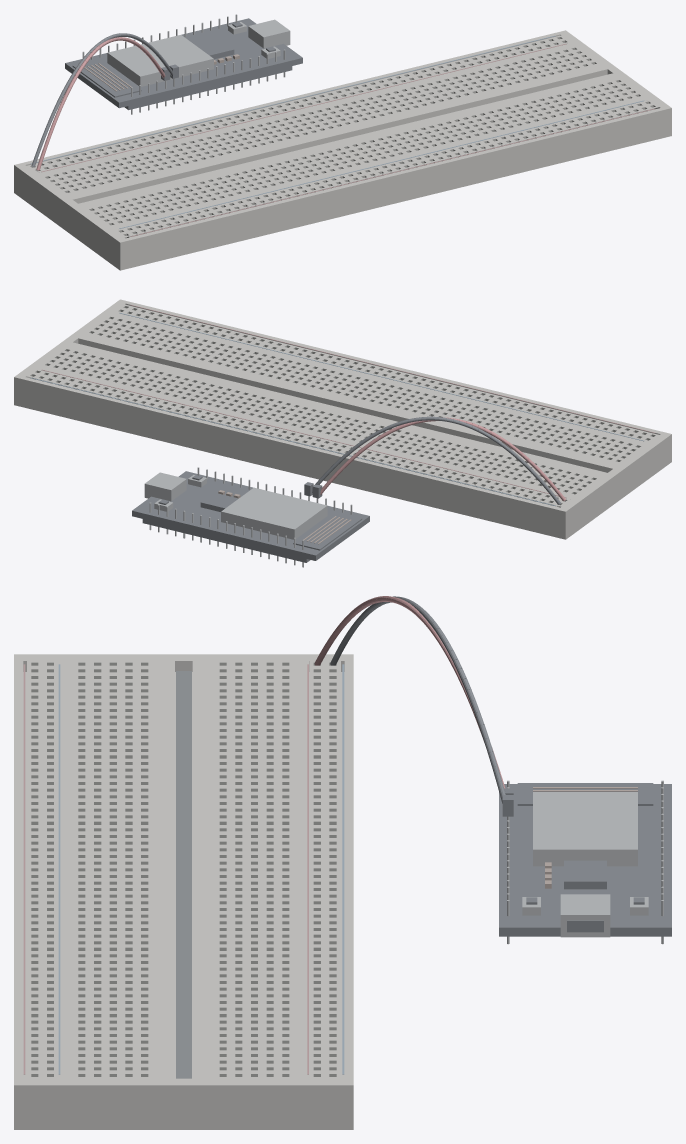
File: step-2.glb
3 renders of one model, top to bottom at view 1: azimuth 30°, elevation 25°; view 2: azimuth 150°, elevation 25°; view 3: azimuth 270°, elevation 25°, orthographic. The views are drawn at different scales.
Visible parts, largest first — view 1: breadboard_1__mesh, arduino_uno__mesh, wire_main_gnd__mesh, wire_main_5v__mesh; view 2: breadboard_1__mesh, arduino_uno__mesh, wire_main_gnd__mesh, wire_main_5v__mesh; view 3: breadboard_1__mesh, arduino_uno__mesh, wire_main_gnd__mesh, wire_main_5v__mesh.
Part boxes in pixels (left/top/right/bottom): breadboard_1__mesh: left=14, top=30, right=671, bottom=270; arduino_uno__mesh: left=65, top=14, right=302, bottom=114; wire_main_gnd__mesh: left=31, top=33, right=178, bottom=166; wire_main_5v__mesh: left=36, top=37, right=170, bottom=170; breadboard_1__mesh: left=14, top=299, right=671, bottom=539; arduino_uno__mesh: left=132, top=467, right=369, bottom=567; wire_main_gnd__mesh: left=304, top=416, right=560, bottom=504; wire_main_5v__mesh: left=312, top=417, right=565, bottom=501; breadboard_1__mesh: left=14, top=654, right=353, bottom=1129; arduino_uno__mesh: left=499, top=780, right=671, bottom=944; wire_main_gnd__mesh: left=330, top=596, right=513, bottom=816; wire_main_5v__mesh: left=314, top=596, right=513, bottom=794.
Size of the model in its own units: 0.165 by 0.0318 by 0.1065.
